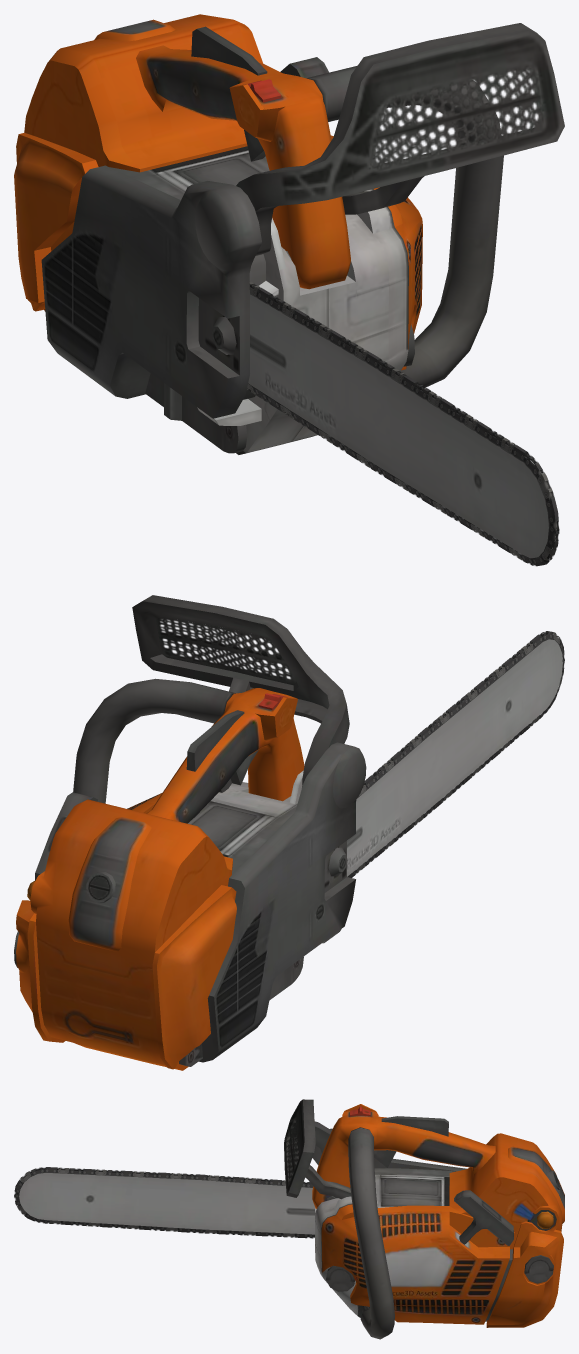
File: chainsaw (1)-compressed.glb
3 renders of one model, top to bottom at view 1: azimuth 30°, elevation 25°; view 2: azimuth 150°, elevation 25°; view 3: azimuth 270°, elevation 25°, orthographic. The views are drawn at different scales.
Visible parts, largest first — view 1: Chainsaw01_Chainsaw01_0, Chainsaw01_Chainsaw01_Alpha_0, Chainsaw01_Chainsaw01_Chain_0; view 2: Chainsaw01_Chainsaw01_0, Chainsaw01_Chainsaw01_Alpha_0, Chainsaw01_Chainsaw01_Chain_0; view 3: Chainsaw01_Chainsaw01_0, Chainsaw01_Chainsaw01_Chain_0, Chainsaw01_Chainsaw01_Alpha_0.
Boxes of the visible parts, x1,y1,x2,y2 form: Chainsaw01_Chainsaw01_0: (14,14,556,558); Chainsaw01_Chainsaw01_Alpha_0: (325,30,564,199); Chainsaw01_Chainsaw01_Chain_0: (247,281,559,566); Chainsaw01_Chainsaw01_0: (14,595,562,1070); Chainsaw01_Chainsaw01_Alpha_0: (156,601,326,685); Chainsaw01_Chainsaw01_Chain_0: (347,631,564,877); Chainsaw01_Chainsaw01_0: (19,1099,564,1339); Chainsaw01_Chainsaw01_Chain_0: (14,1167,314,1238); Chainsaw01_Chainsaw01_Alpha_0: (284,1099,304,1195).
Bounding box in the file's own units: 32.98 × 39.88 × 94.26.
3 materials, 3 textured.
